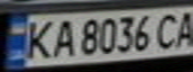0: (97, 15, 118, 55)
3: (115, 14, 139, 54)
6: (133, 11, 157, 52)
8: (75, 16, 103, 56)
A: (48, 16, 78, 58), (172, 8, 193, 47)
C: (151, 10, 184, 49)
K: (18, 17, 57, 61)
